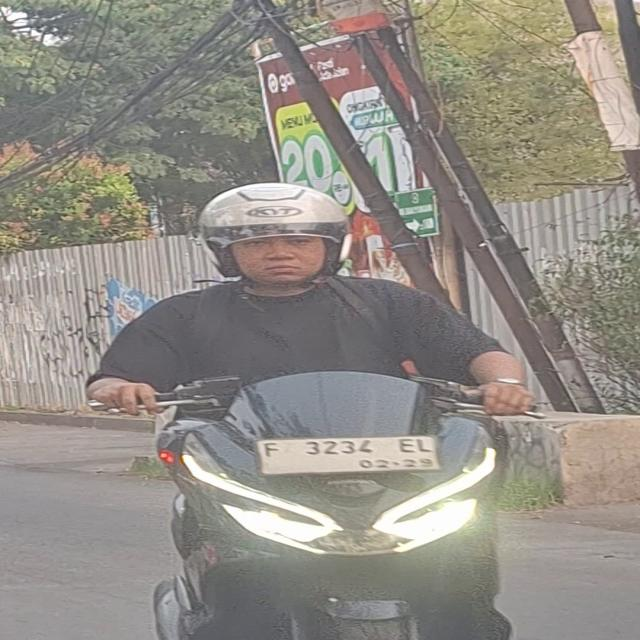WithHelmet: (80, 183, 537, 420)
